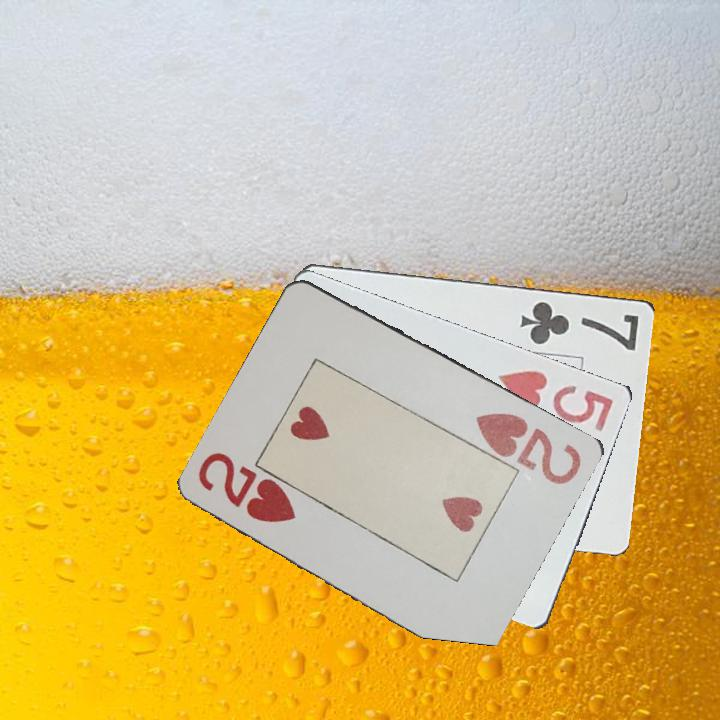2h: (472, 408, 585, 488), (195, 449, 300, 526)
5h: (494, 366, 617, 435)
7c: (517, 297, 643, 354)
